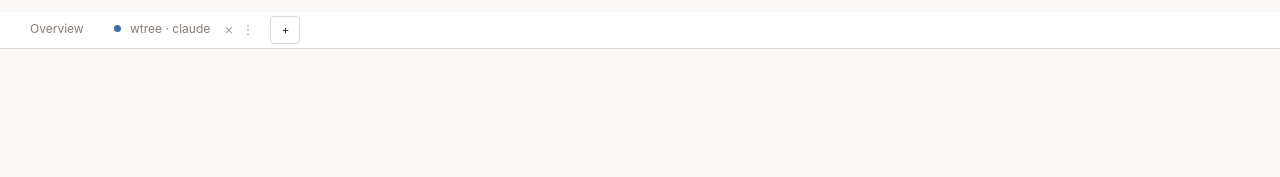
AgentSessionTabsComponent open-the-ide (#628, #782) › remote SSH (#949) › opens the VS Code link built from the engine facts and the page host, and shows the hint
Click the button with class "tab-menu-trigger" at (251, 29), box [242,20,260,38]
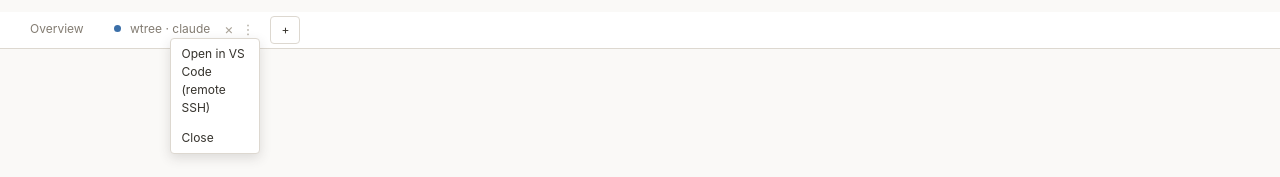
Click the menu item with class "tab-open-ide" at (216, 80), box [172,38,260,122]
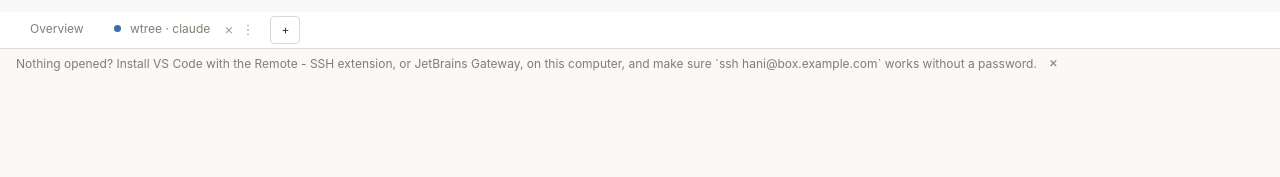
Expected: the message with class "ide-hint" shows "Nothing opened?", [16,56,1037,71]
Expected: the message with class "ide-hint" shows "ssh hani@box.example.com", [16,56,1037,71]
